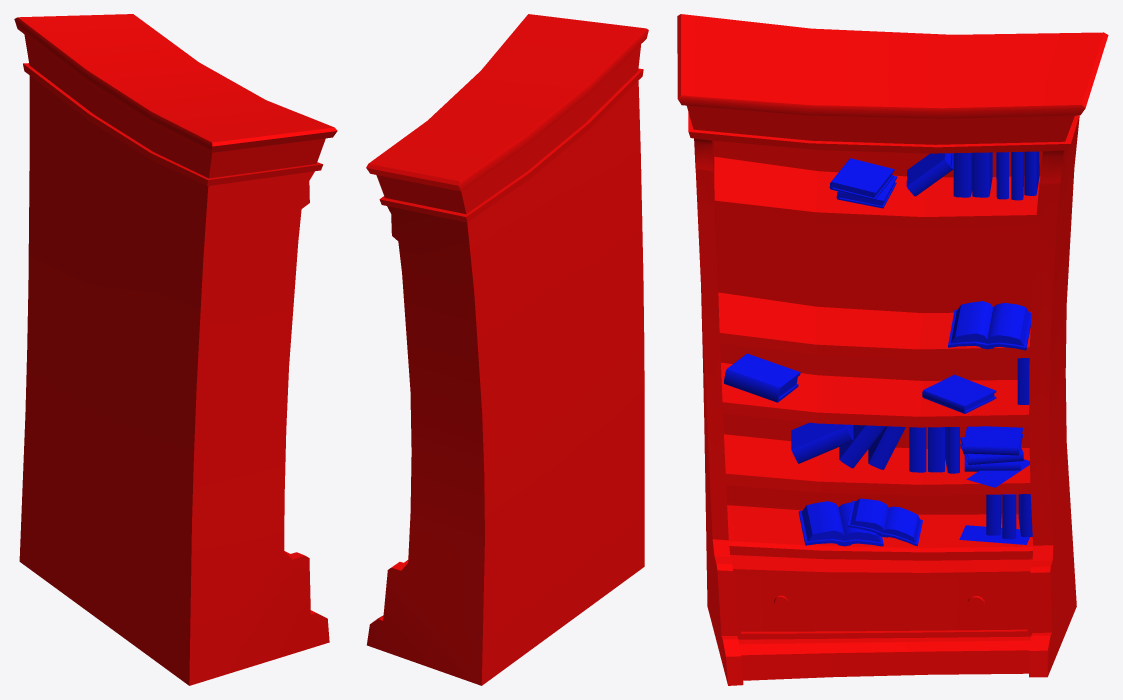
Rendered from BibliLivres.FBX.
3 renders of one model, left to right at view 1: azimuth 30°, elevation 25°; view 2: azimuth 150°, elevation 25°; view 3: azimuth 270°, elevation 25°, orthographic. The views are drawn at different scales.
Parts seen in each view (by area): view 1: Box049; view 2: Box049; view 3: Box049.
Part boxes in pixels (bbox=[...]): Box049: bbox=[14, 14, 337, 685]; Box049: bbox=[366, 14, 648, 685]; Box049: bbox=[677, 14, 1108, 685].
Bounding box in the file's own units: 93.87 × 329 × 215.
